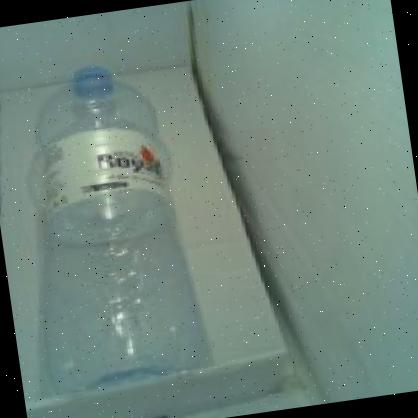bottle: (3, 43, 231, 402)
label: (30, 126, 172, 206)
